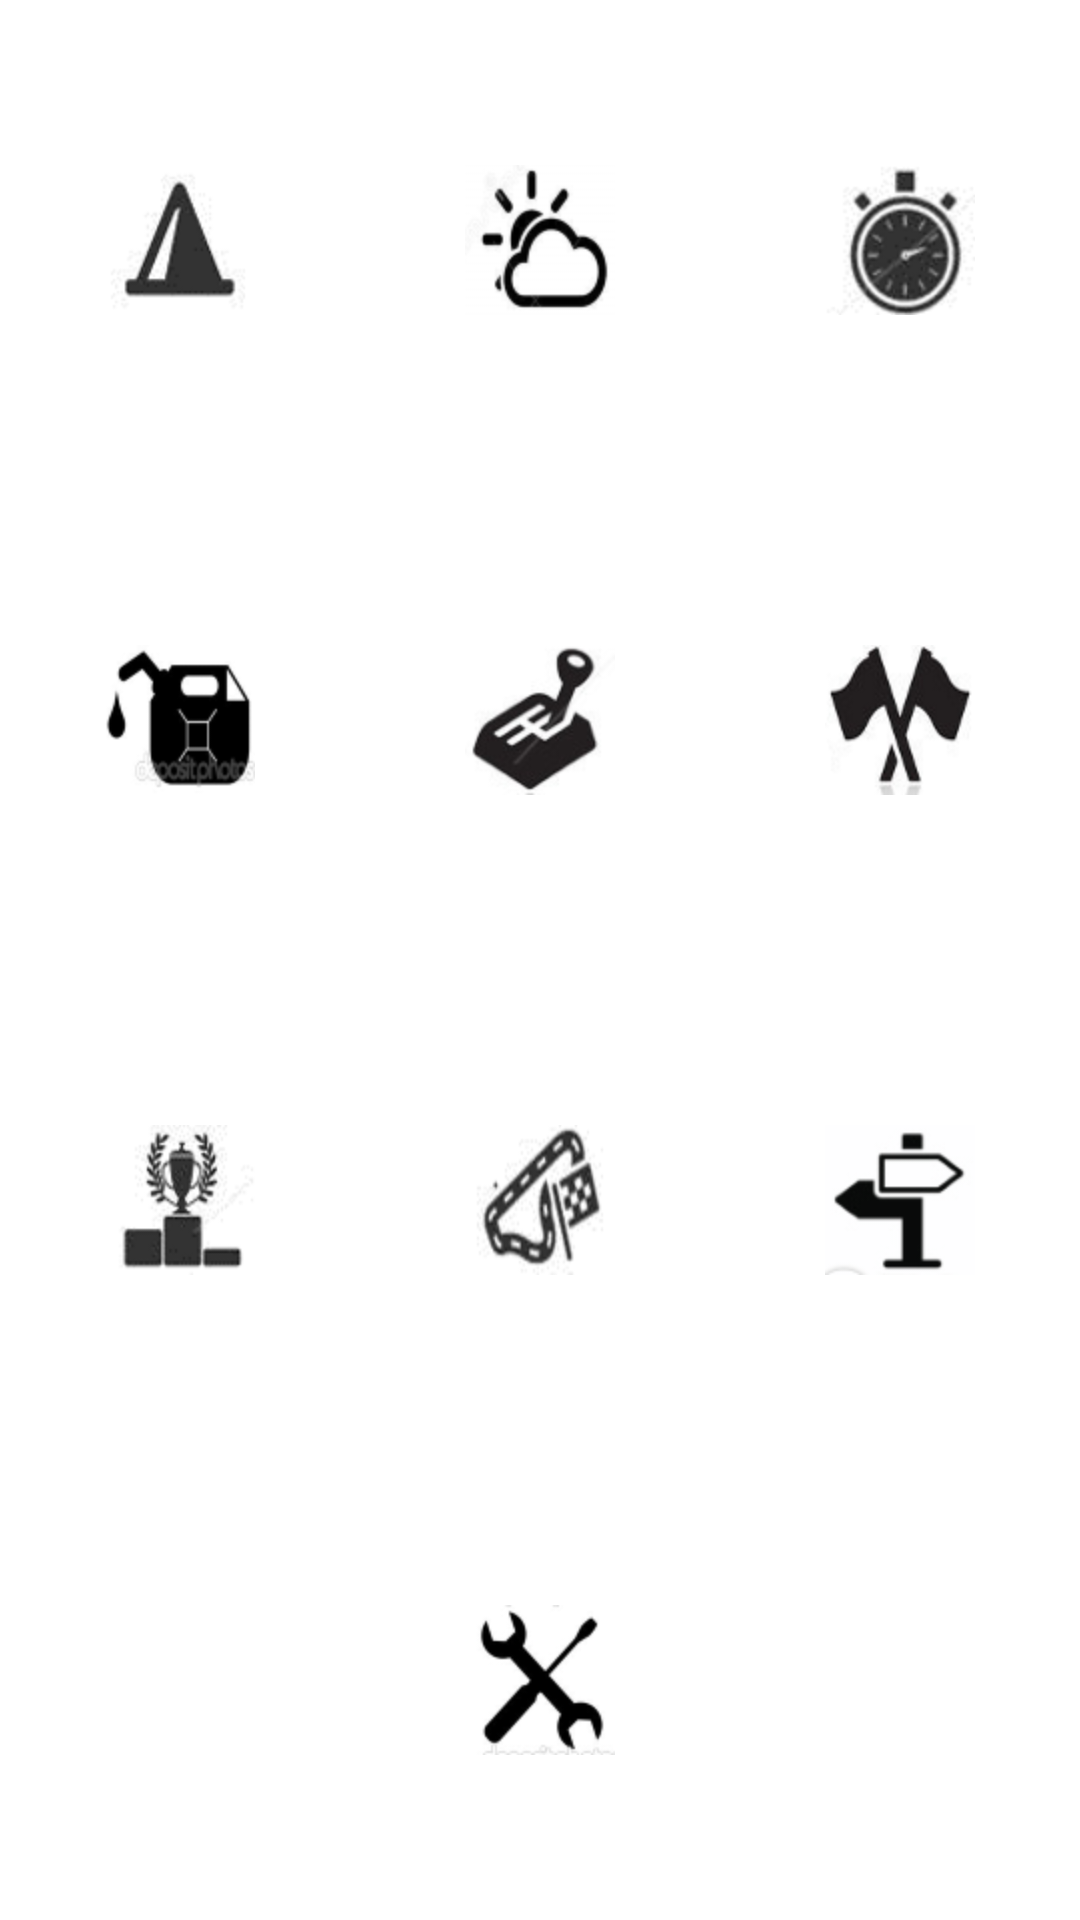

Where icons sit on this 1080 × 1920 app screen, as (x1, y1, x2, y2):
flags: (830, 646, 971, 795)
fuel: (106, 650, 255, 787)
gear: (472, 648, 598, 795)
hall of fame: (123, 1132, 242, 1268)
settings: (480, 1605, 614, 1755)
stop watch: (849, 169, 962, 315)
track: (483, 1129, 600, 1265)
weather: (481, 170, 608, 308)
